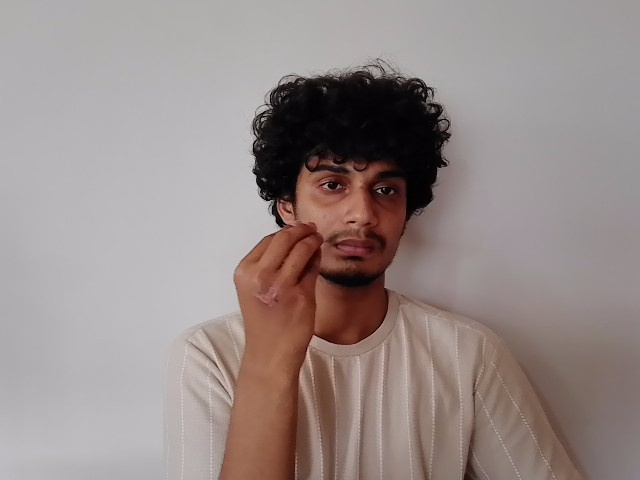eat: (230, 143, 412, 342)
